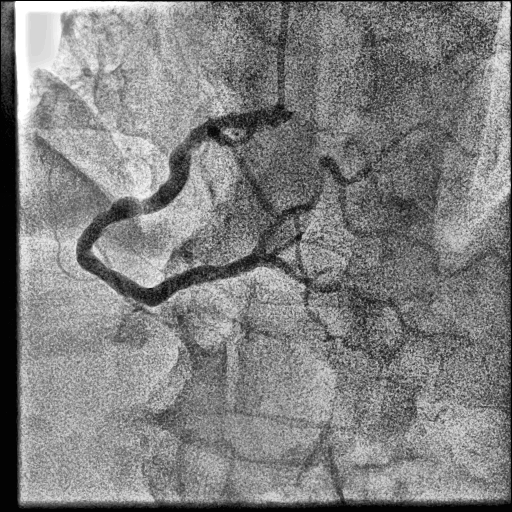pborca: (252, 119, 434, 255)
pda: (264, 253, 426, 338)
rca: (76, 108, 278, 306)
